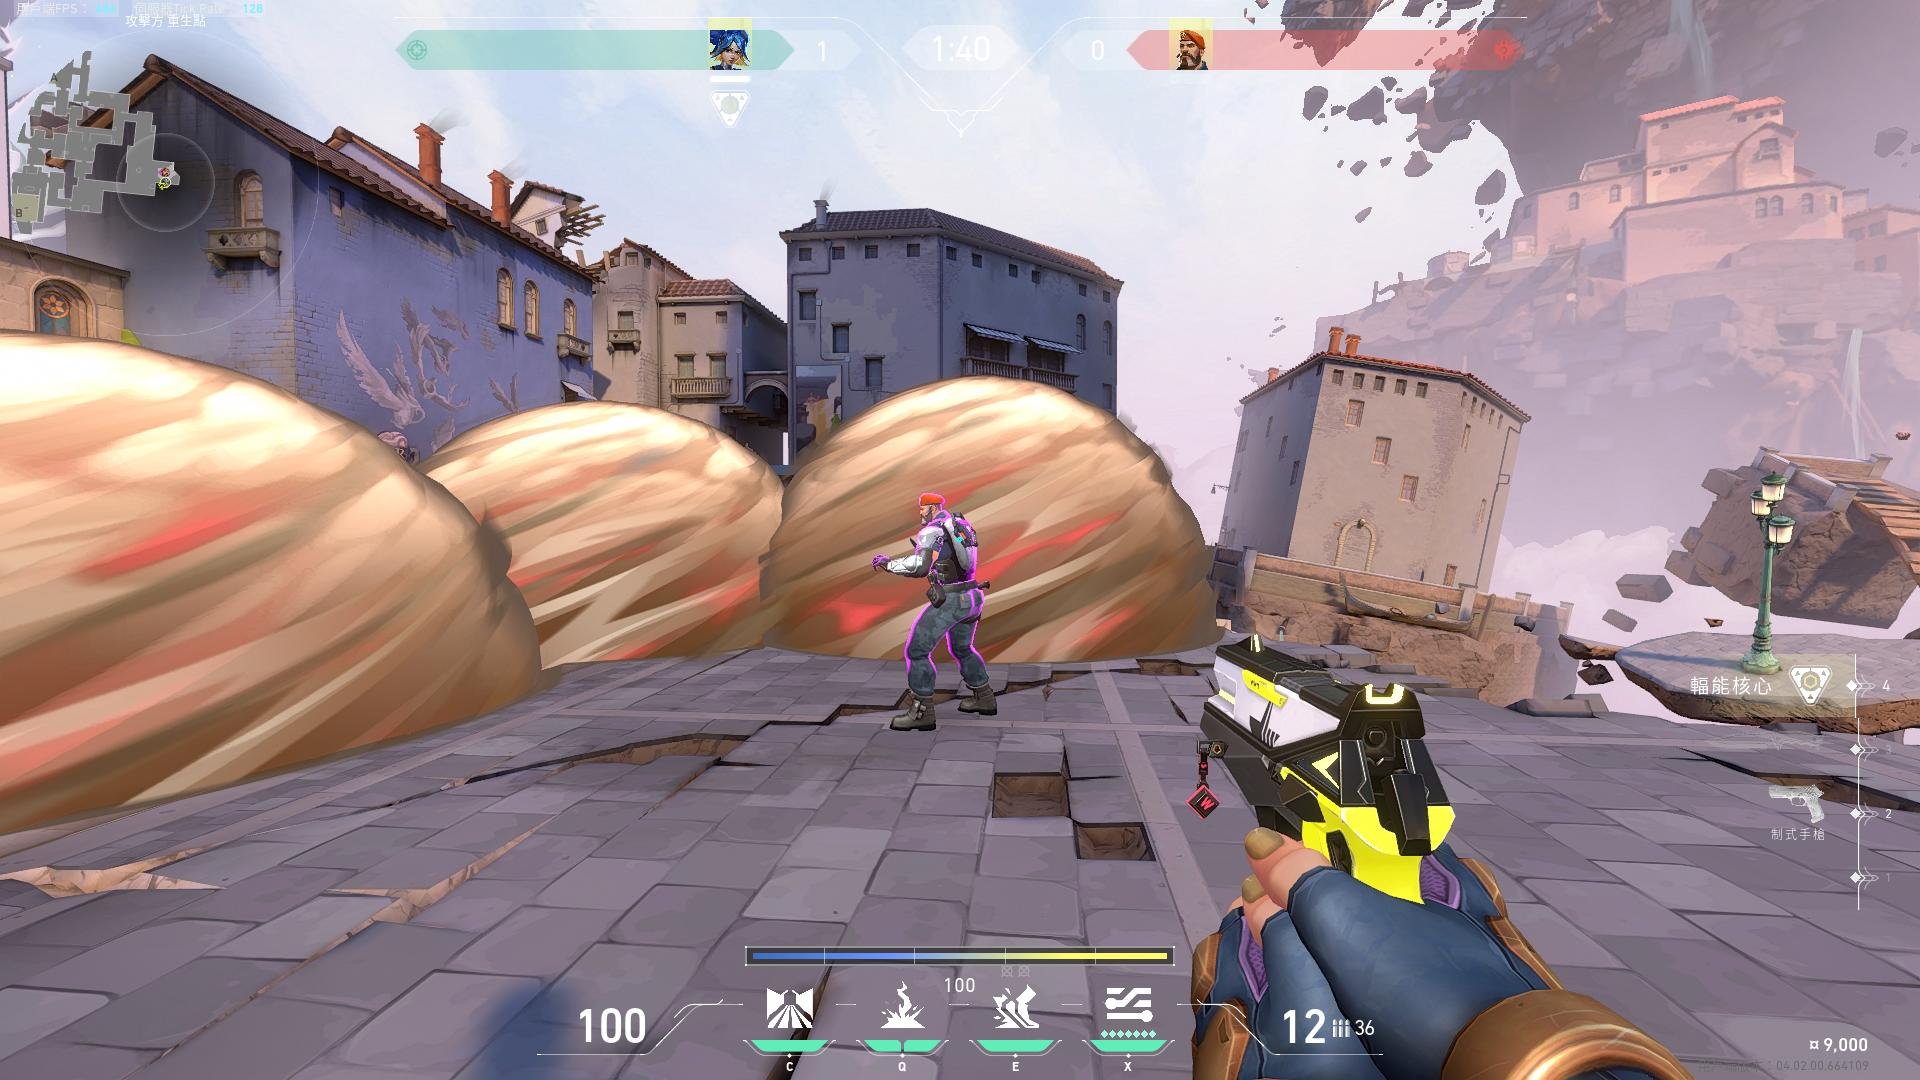enemyBody: (919, 527, 986, 608)
enemyHead: (915, 495, 945, 520)
